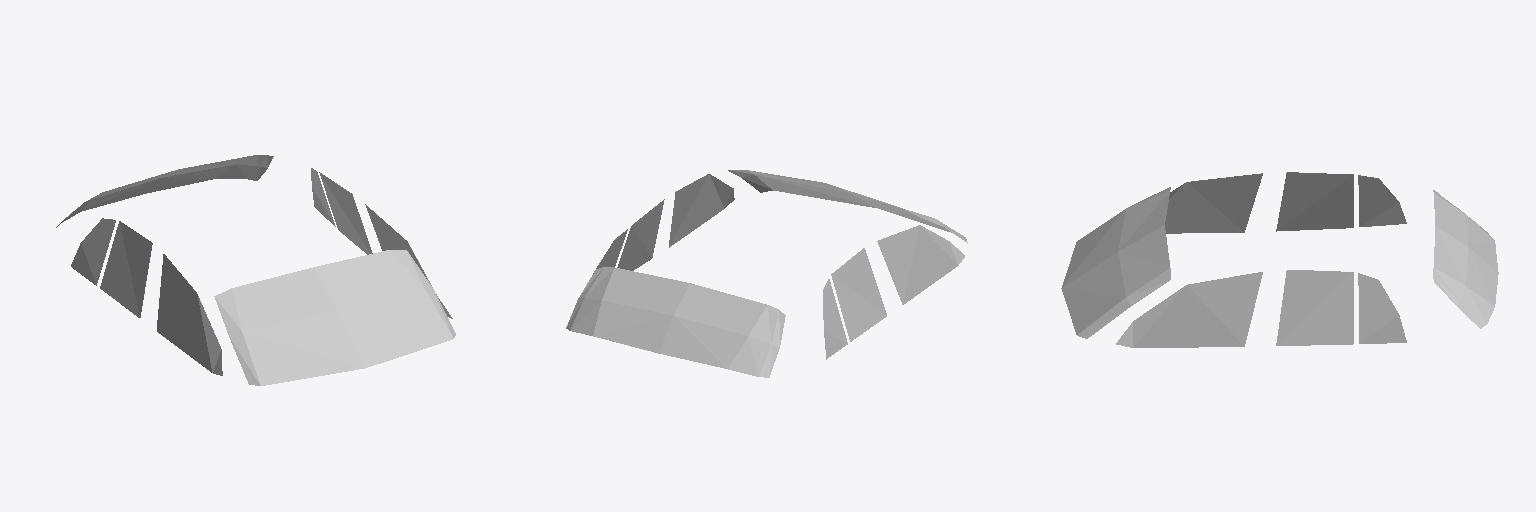
Rendered from police_car_glass.obj.
The picture shows the model from 3 angles: view 1: azimuth 30°, elevation 25°; view 2: azimuth 150°, elevation 25°; view 3: azimuth 270°, elevation 25°; orthographic projection.
Parts seen in each view (by area): view 1: SM_Veh_Car_Police_Glass_Mesh.001; view 2: SM_Veh_Car_Police_Glass_Mesh.001; view 3: SM_Veh_Car_Police_Glass_Mesh.001.
Boxes of the visible parts, box(x1,y1,x2,y2) form: SM_Veh_Car_Police_Glass_Mesh.001: box(56, 155, 455, 385); SM_Veh_Car_Police_Glass_Mesh.001: box(566, 170, 967, 377); SM_Veh_Car_Police_Glass_Mesh.001: box(1061, 172, 1498, 347).
Size of the model in its own units: 1.72 by 0.4735 by 2.67.